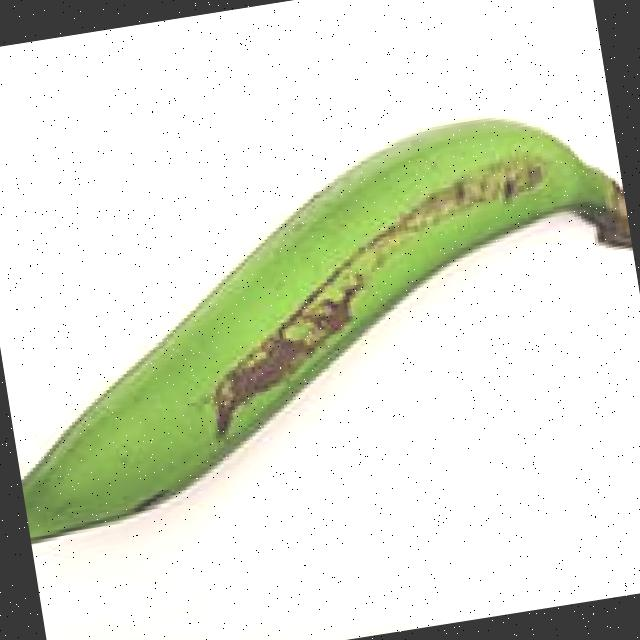Raw: (0, 57, 640, 560)
